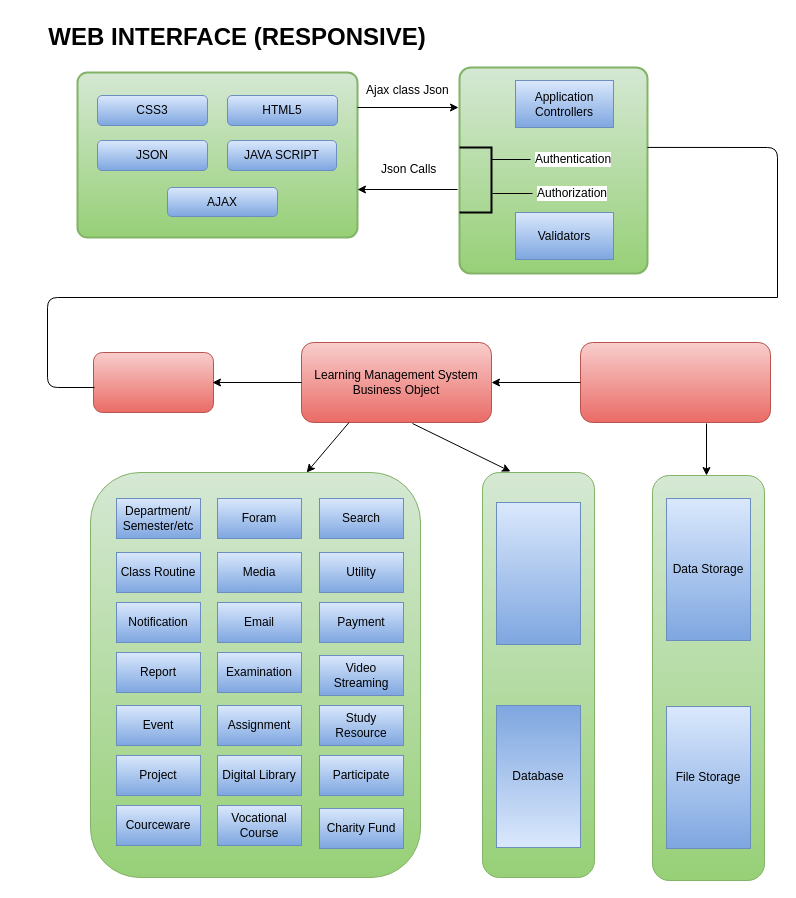
Some shapes in this 796 by 898 pixel diagram are drawn without their labels. Here are the shapes that lost their labels. From the top down, the box of each, then its label:
(92, 352, 214, 412): Controllers
(580, 342, 770, 422): Learning Management System Datasource Object
(496, 502, 580, 644): File System
